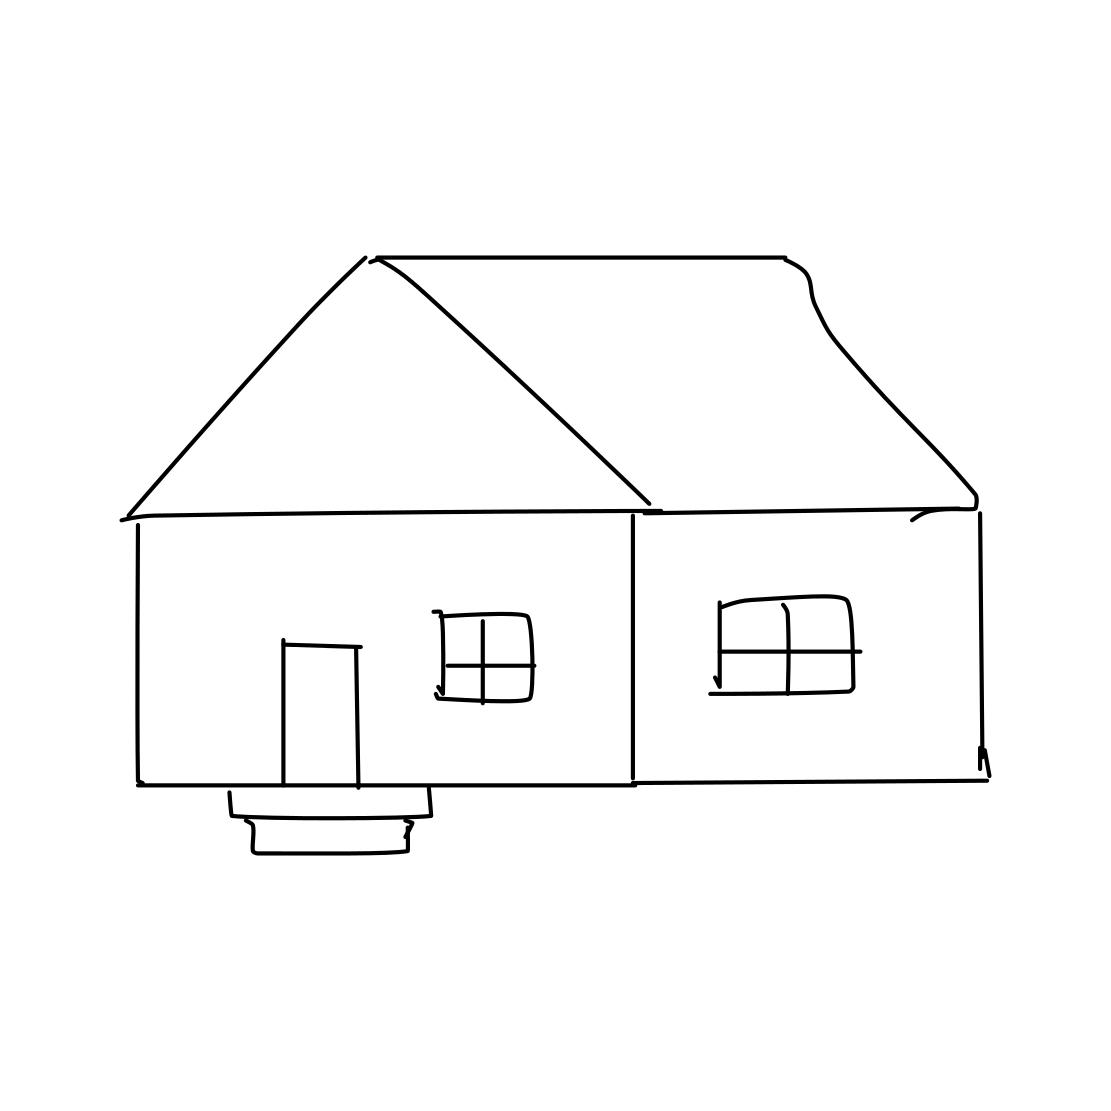House: (90, 224, 1012, 807)
